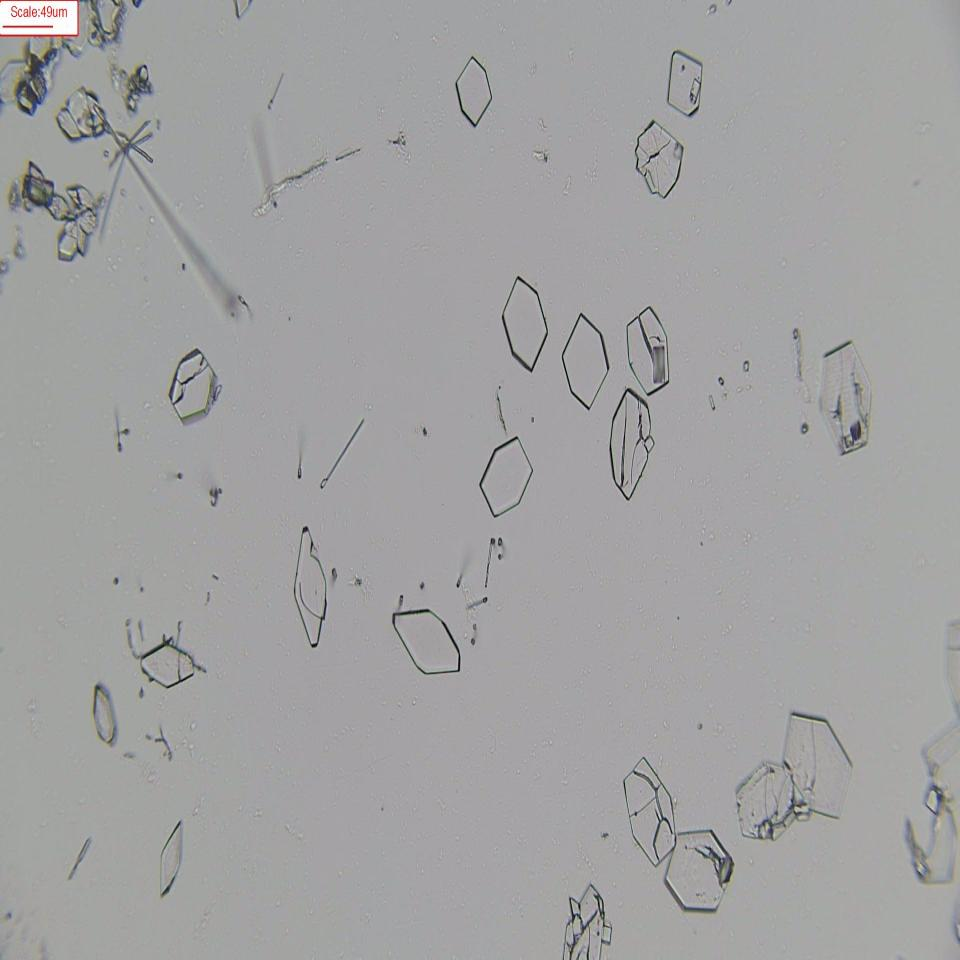crystal: (781, 711, 852, 820), (818, 341, 872, 458), (622, 756, 676, 867), (664, 829, 734, 913), (737, 760, 801, 842), (906, 785, 958, 883), (608, 388, 652, 501), (477, 434, 533, 522), (560, 309, 608, 411), (501, 273, 547, 374), (392, 607, 460, 675), (167, 349, 219, 427), (294, 525, 327, 647), (634, 118, 682, 200), (626, 306, 668, 398), (138, 634, 197, 688), (56, 84, 108, 140), (455, 55, 493, 129), (668, 48, 702, 118), (159, 817, 184, 898), (92, 682, 116, 746), (233, 0, 253, 21)
